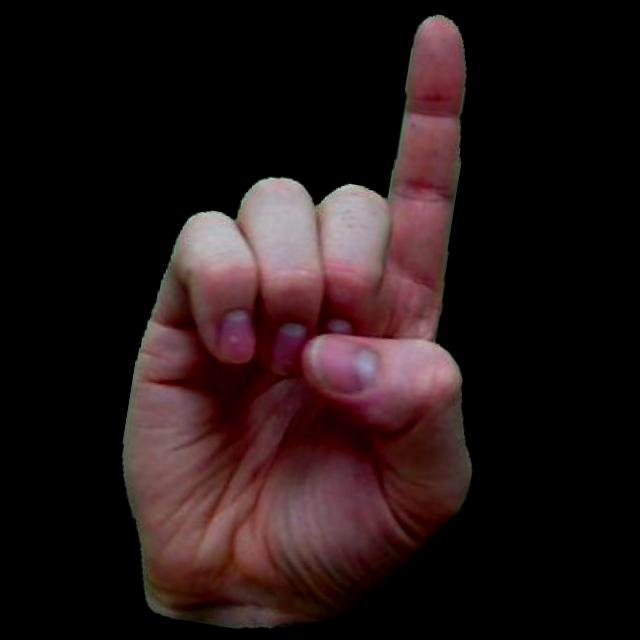d: (78, 0, 558, 640)
